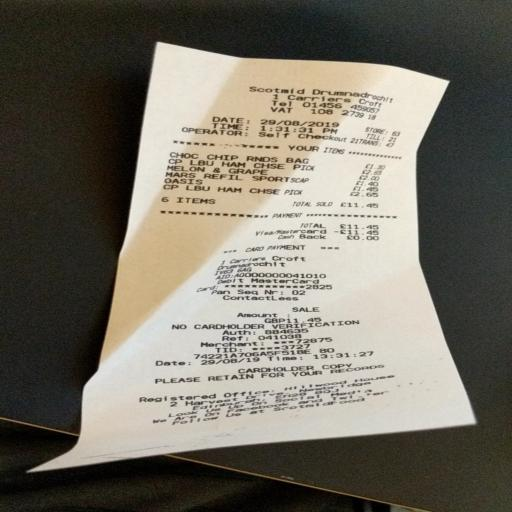paper: (32, 14, 512, 512)
